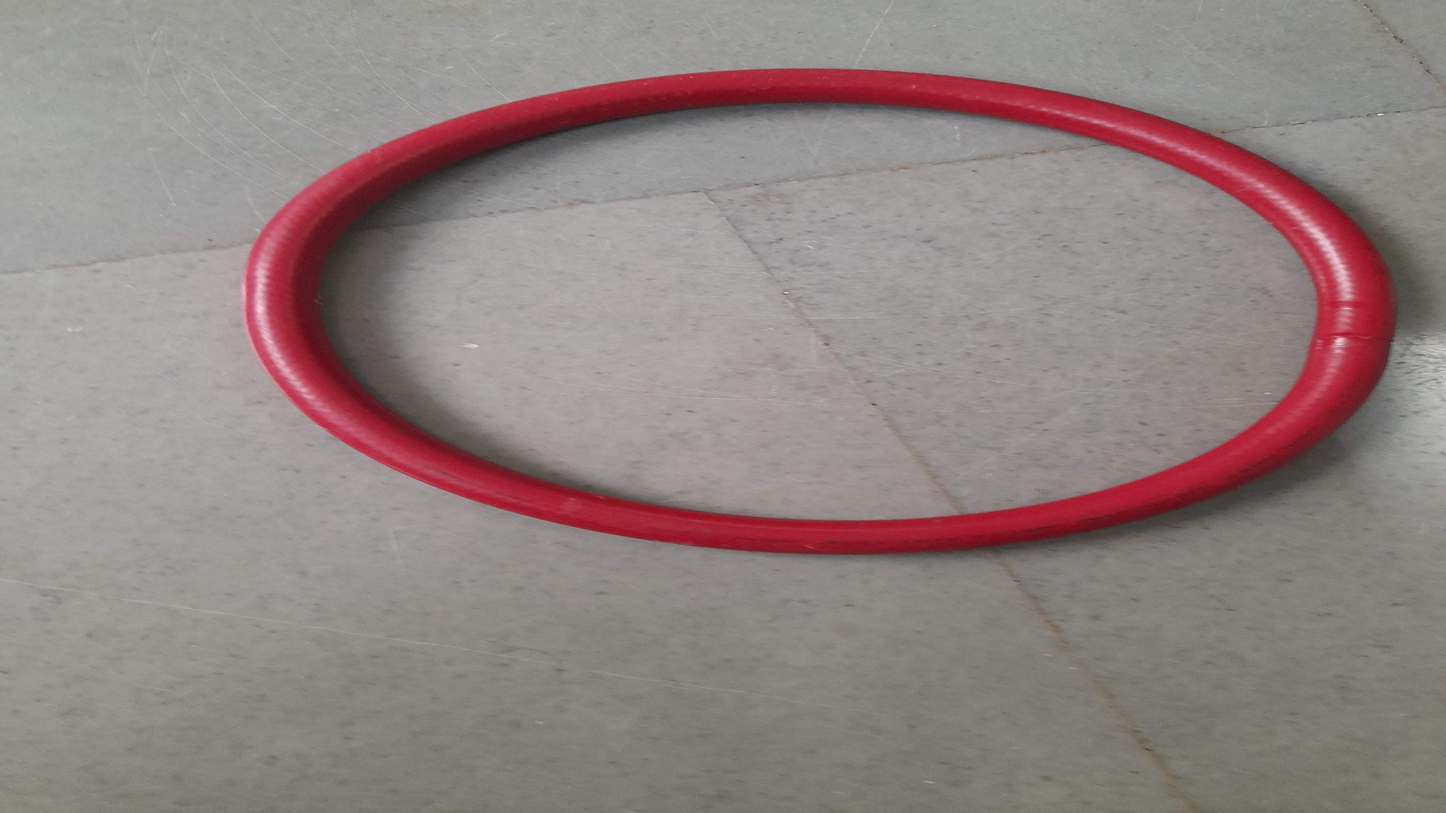Red ring: (243, 68, 1401, 554)
